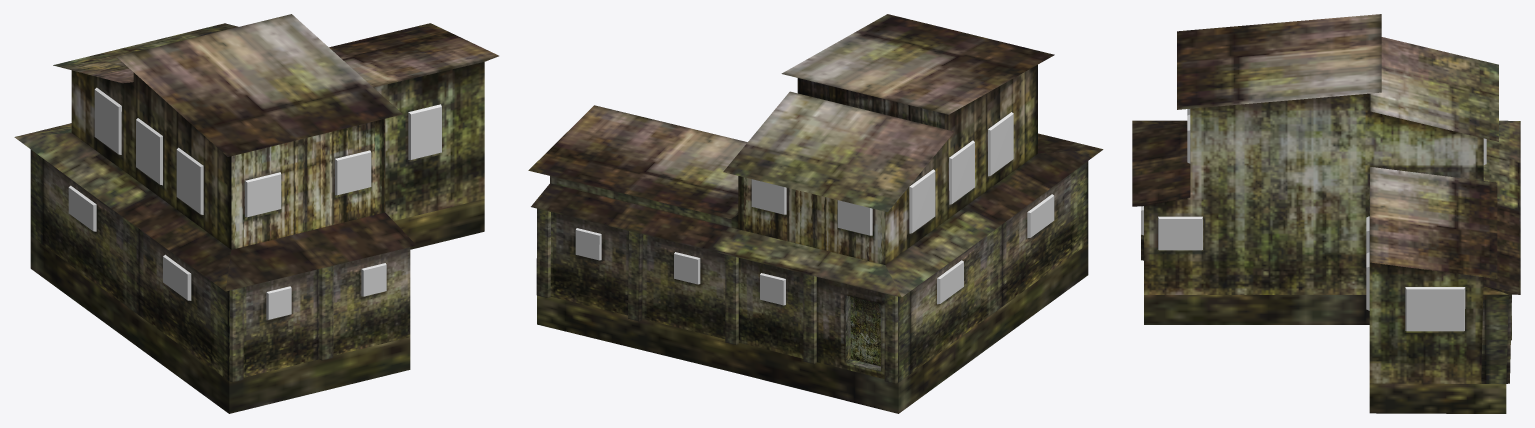
File: Moghut2B.glb
3 views of the same model, side by side, from view 1: azimuth 30°, elevation 25°; view 2: azimuth 150°, elevation 25°; view 3: azimuth 270°, elevation 25° (orthographic). The views are drawn at different scales.
Parts seen in each view (by area): view 1: _Moghut2B; view 2: _Moghut2B; view 3: _Moghut2B.
Part boxes in pixels (<box>): _Moghut2B: <box>14,14,498,413</box>; _Moghut2B: <box>528,14,1103,413</box>; _Moghut2B: <box>1132,14,1520,413</box>.
Bounding box in the file's own units: 13.14 × 8.03 × 11.91.
4 materials, 3 textured.
